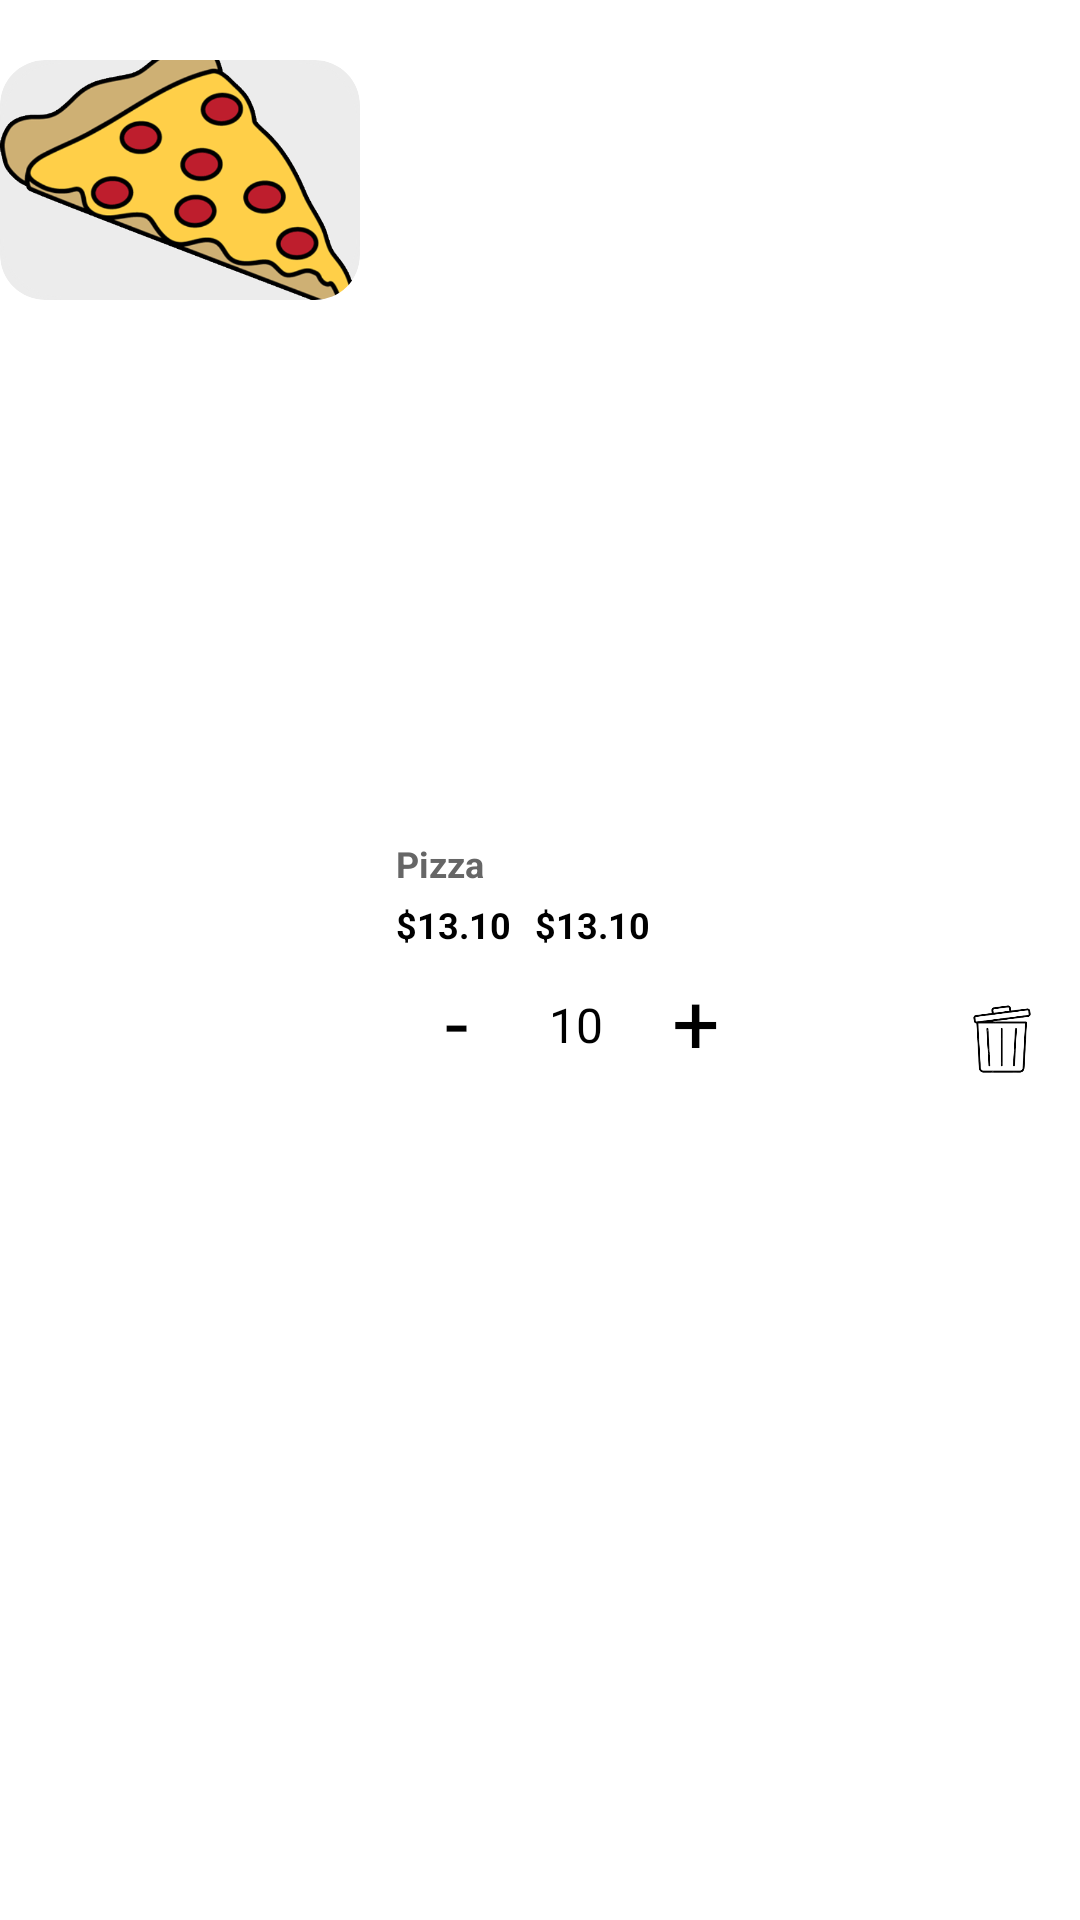

Where icons sit on this 1080w x 1920h app screen, as (x1,y1,x2,y2):
trash: (973,1005,1031,1073)
